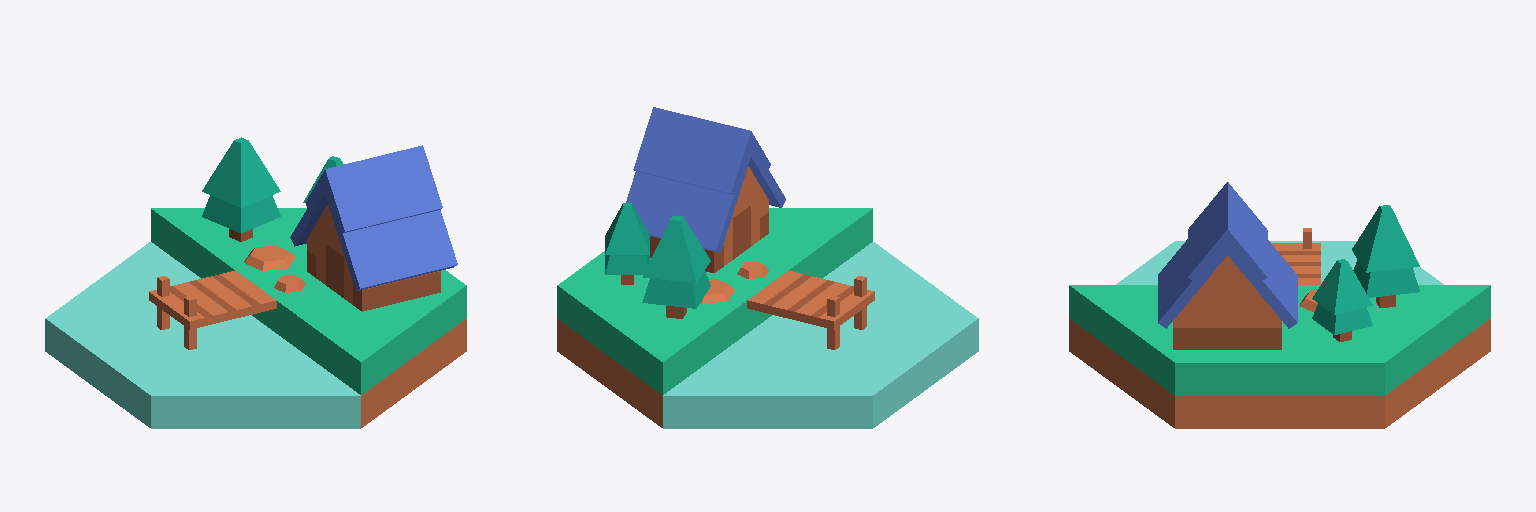
File: building_dock.obj
3 views of the same model, side by side, from view 1: azimuth 30°, elevation 25°; view 2: azimuth 150°, elevation 25°; view 3: azimuth 270°, elevation 25° (orthographic).
Parts seen in each view (by area): view 1: building_dock, building, tree, dock, path; view 2: building_dock, building, tree, dock, path; view 3: building_dock, building, tree, dock.
Part boxes in pixels (x1,y1,x2,y2): building_dock: (45, 208, 466, 428); building: (290, 145, 457, 311); tree: (202, 137, 343, 241); dock: (149, 270, 276, 349); path: (244, 245, 305, 292); building_dock: (557, 208, 978, 428); building: (626, 107, 785, 272); tree: (605, 203, 710, 318); dock: (747, 270, 874, 349); path: (701, 261, 768, 303); building_dock: (1069, 241, 1490, 428); building: (1158, 182, 1297, 349); tree: (1312, 205, 1419, 341); dock: (1271, 228, 1320, 284).
Size of the model in its own units: 1 by 0.5781 by 1.15.